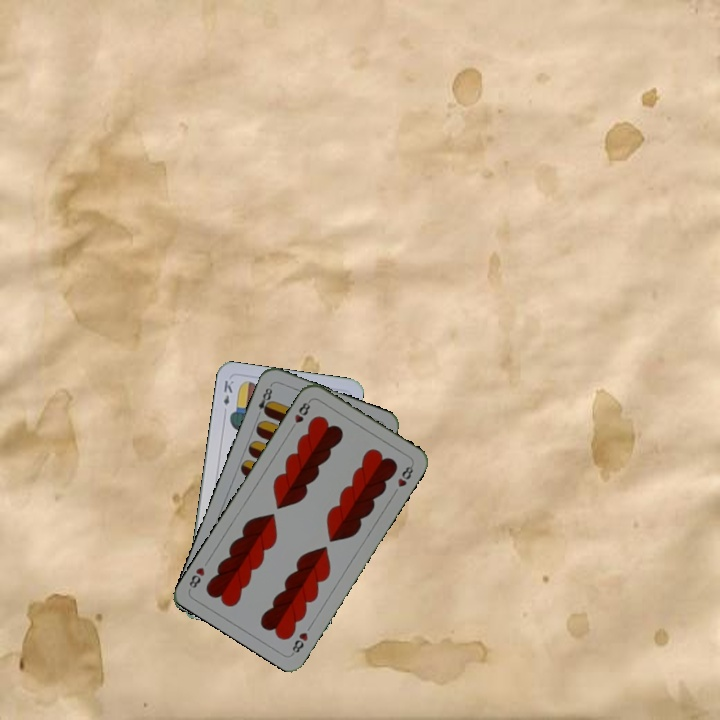E8: (253, 381, 275, 420)
EK: (220, 376, 236, 416)
H8: (287, 396, 313, 433), (288, 628, 311, 657)
